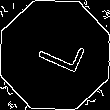L_NW: (26, 31, 84, 79)
